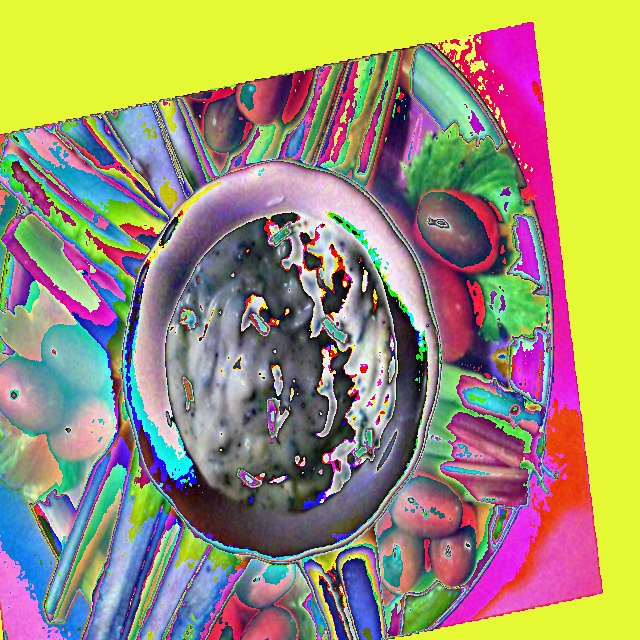background: (0, 49, 559, 639), (165, 212, 396, 516)
